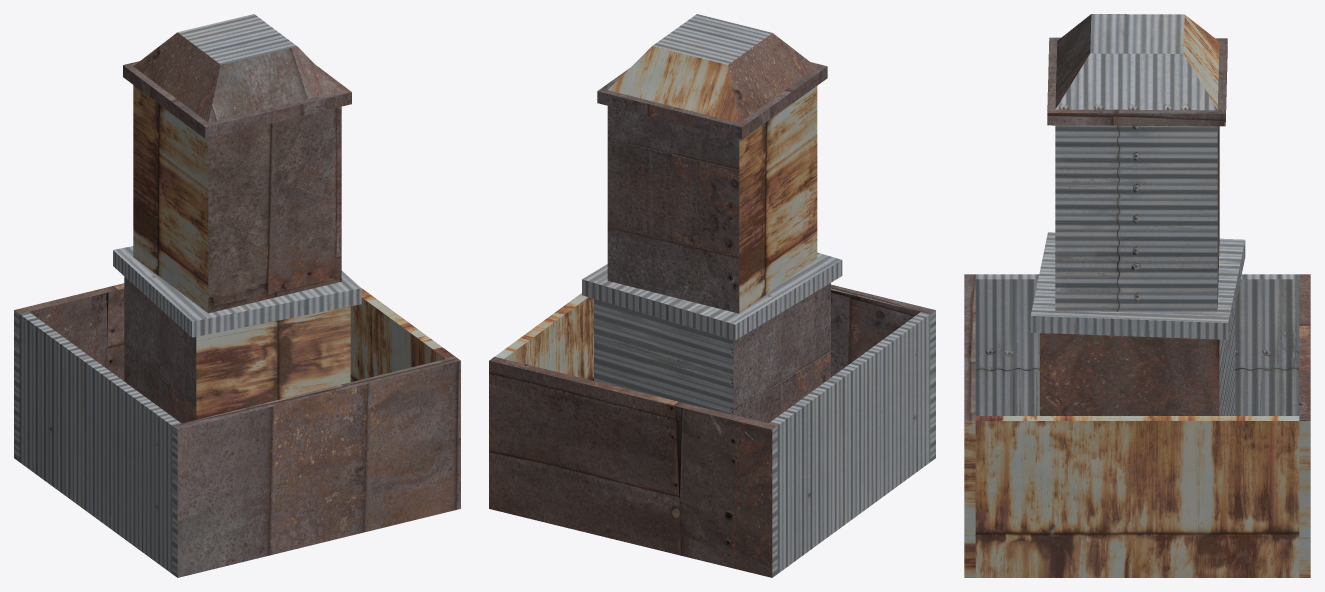
Rendered from SettlementLevel1.fbx.
The picture shows the model from 3 angles, left to right: view 1: azimuth 30°, elevation 25°; view 2: azimuth 150°, elevation 25°; view 3: azimuth 270°, elevation 25°; orthographic projection. The views are drawn at different scales.
Visible parts, largest first — view 1: Level1Settlement; view 2: Level1Settlement; view 3: Level1Settlement.
Part boxes in pixels (<box>): Level1Settlement: <box>14,14,460,577</box>; Level1Settlement: <box>489,14,935,577</box>; Level1Settlement: <box>964,14,1310,577</box>.
Size of the model in its own units: 60 by 89.92 by 60.
Materials: 4 (4 with a texture image).
